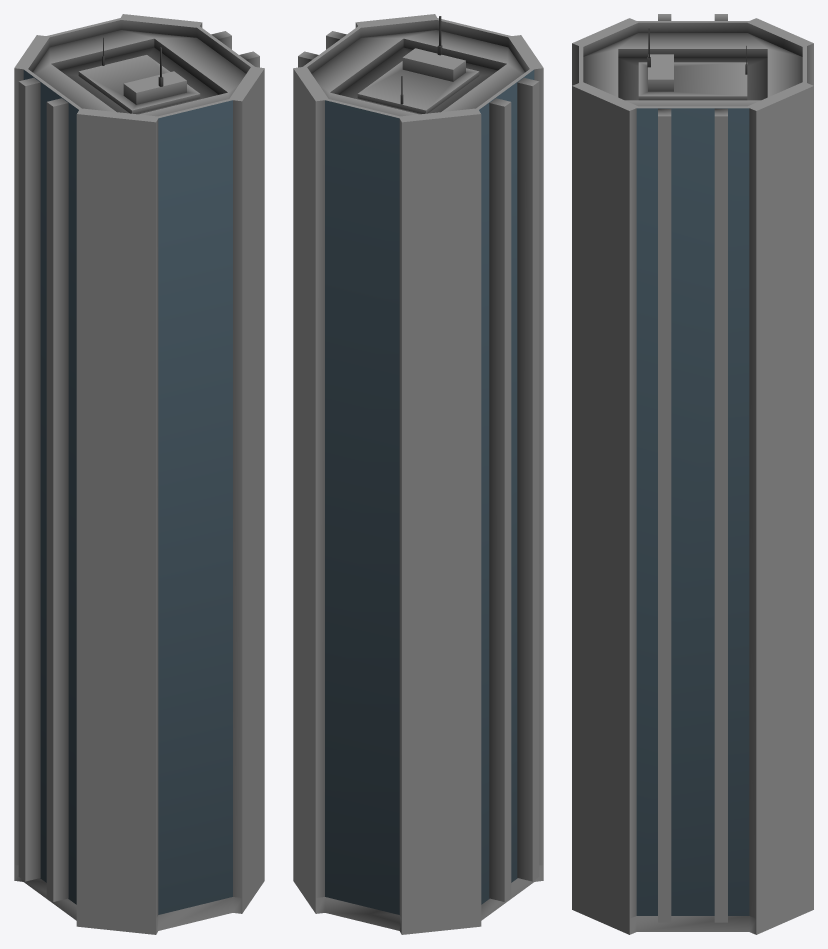
Rendered from Industrial_ModernSkyscraper_alt06.glb.
3 views of the same model, side by side, from view 1: azimuth 30°, elevation 25°; view 2: azimuth 150°, elevation 25°; view 3: azimuth 270°, elevation 25° (orthographic).
Visible parts, largest first — view 1: base.044, windowRefl.027; view 2: base.044, windowRefl.027; view 3: base.044, windowRefl.027.
Part boxes in pixels (box(x1,y1,x2,y2)): base.044: box(14, 14, 264, 934); windowRefl.027: box(23, 70, 232, 914); base.044: box(293, 14, 543, 934); windowRefl.027: box(325, 70, 534, 914); base.044: box(572, 14, 813, 934); windowRefl.027: box(636, 108, 749, 915).
Bounding box in the file's own units: 21.02 × 82.41 × 21.
